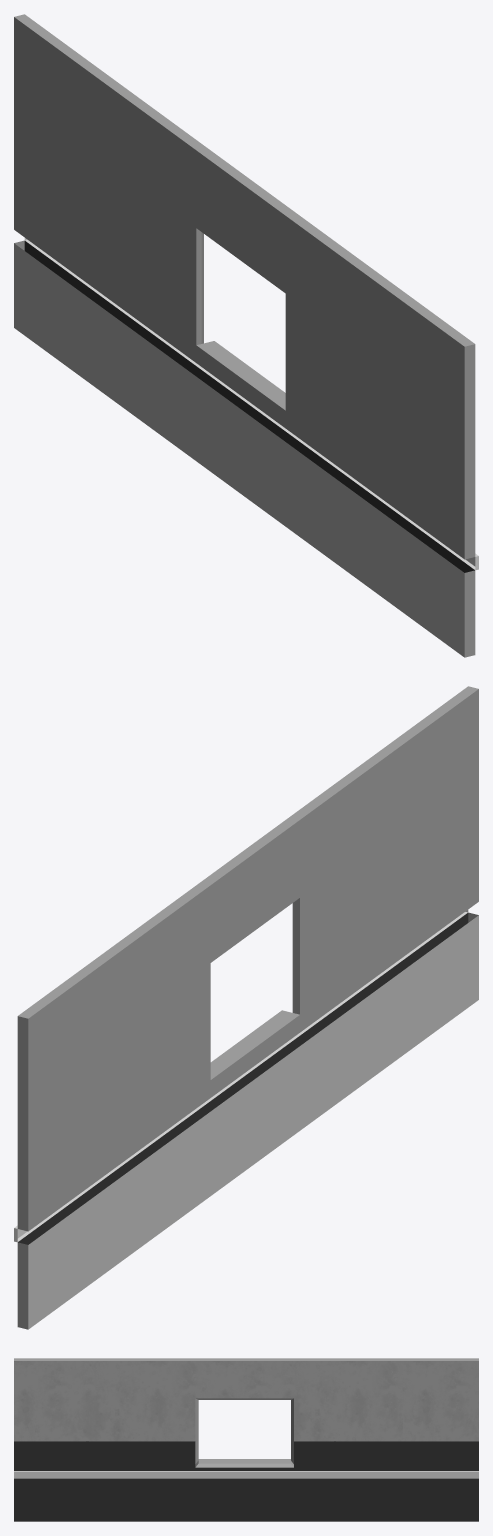
File: Window Wall 1.fbx
3 renders of one model, top to bottom at view 1: azimuth 30°, elevation 25°; view 2: azimuth 150°, elevation 25°; view 3: azimuth 270°, elevation 25°, orthographic. The views are drawn at different scales.
Visible parts, largest first — view 1: pCube45; view 2: pCube45; view 3: pCube45.
Boxes of the visible parts, x1,y1,x2,y2 form: pCube45: (14, 14, 478, 657); pCube45: (14, 686, 478, 1329); pCube45: (14, 1358, 478, 1521).
Size of the model in its own units: 27.29 by 345 by 907.
